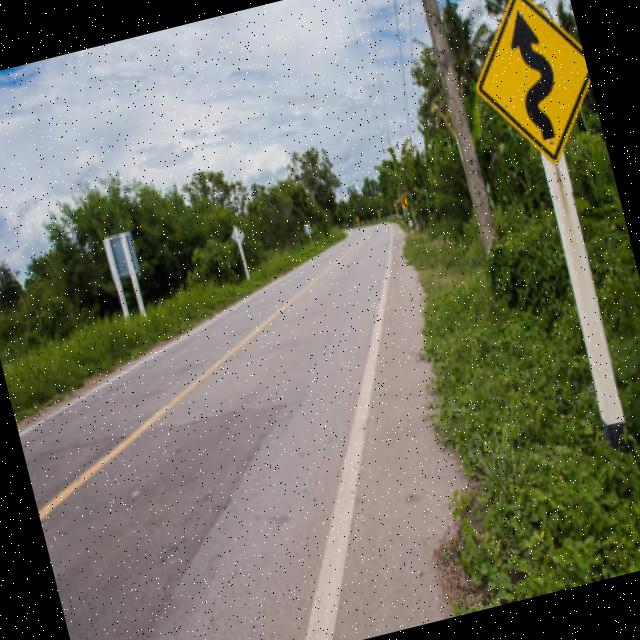left_sharp_curve: (451, 0, 607, 177)
